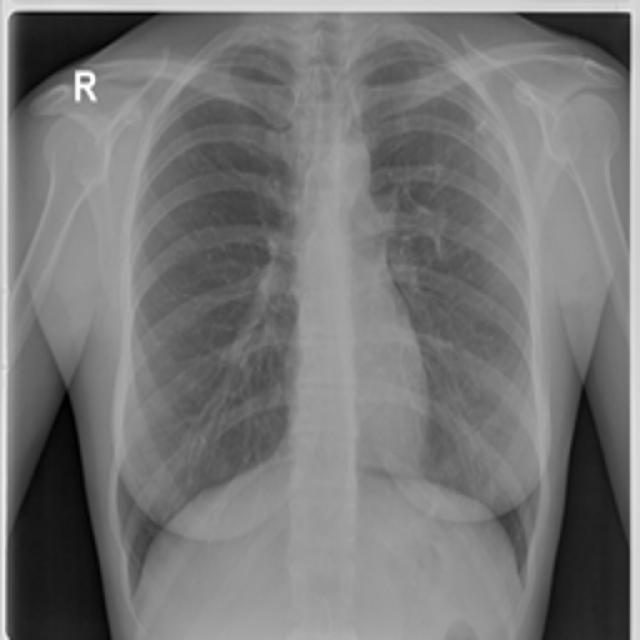tuberculosis: (11, 14, 640, 640)
